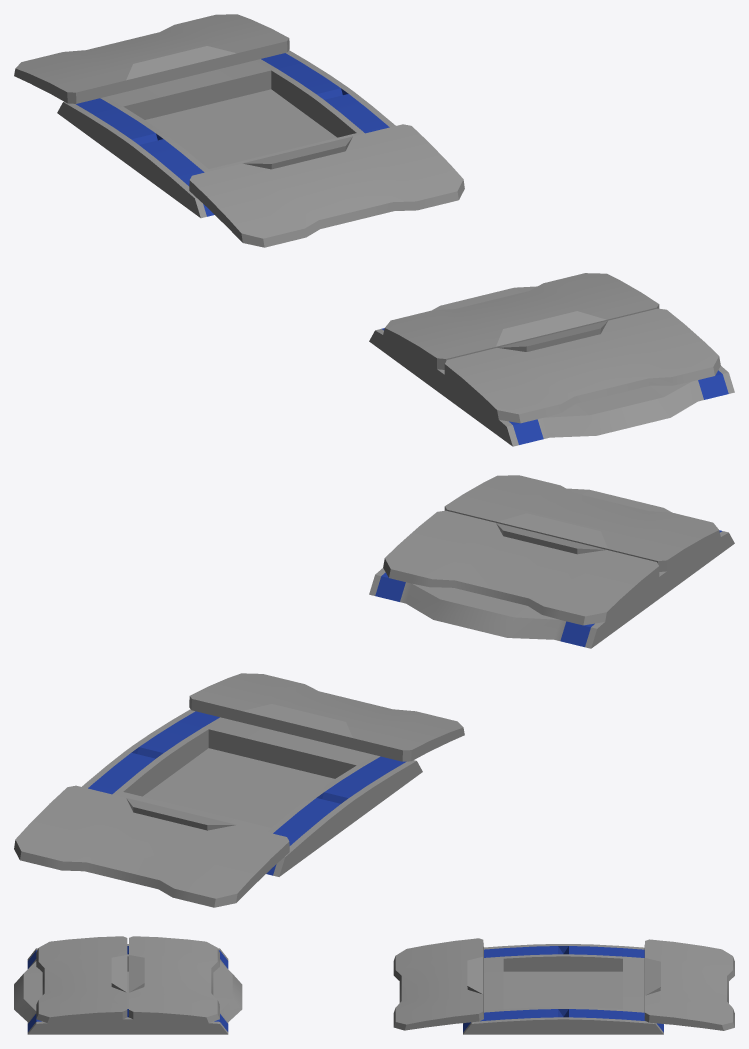
File: Enemy_Spawn_Machine_Test03.FBX
3 renders of one model, top to bottom at view 1: azimuth 30°, elevation 25°; view 2: azimuth 150°, elevation 25°; view 3: azimuth 270°, elevation 25°, orthographic. The views are drawn at different scales.
Visible parts, largest first — view 1: Object017, Object018, Object015, Object019, Object016, Object014; view 2: Object017, Object019, Object016, Object018, Object015, Object014; view 3: Object017, Object015, Object019, Object018, Object016, Object014.
Boxes of the visible parts, x1,y1,x2,y2 form: Object017: (57, 50, 395, 218); Object018: (189, 124, 464, 247); Object015: (444, 308, 720, 423); Object019: (14, 14, 289, 103); Object016: (383, 273, 659, 369); Object014: (369, 286, 734, 446); Object017: (82, 709, 422, 876); Object019: (14, 785, 289, 907); Object016: (383, 510, 659, 625); Object018: (189, 673, 464, 761); Object015: (444, 475, 720, 571); Object014: (369, 488, 734, 648); Object017: (463, 944, 663, 1034); Object015: (36, 936, 127, 1022); Object019: (644, 939, 734, 1030); Object018: (393, 938, 483, 1030); Object016: (129, 936, 219, 1023); Object014: (14, 944, 242, 1034).
Size of the model in its own units: 400 by 1611 by 65.75.
